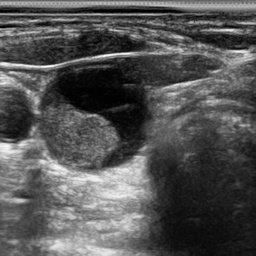mass: (40, 67, 148, 169)
